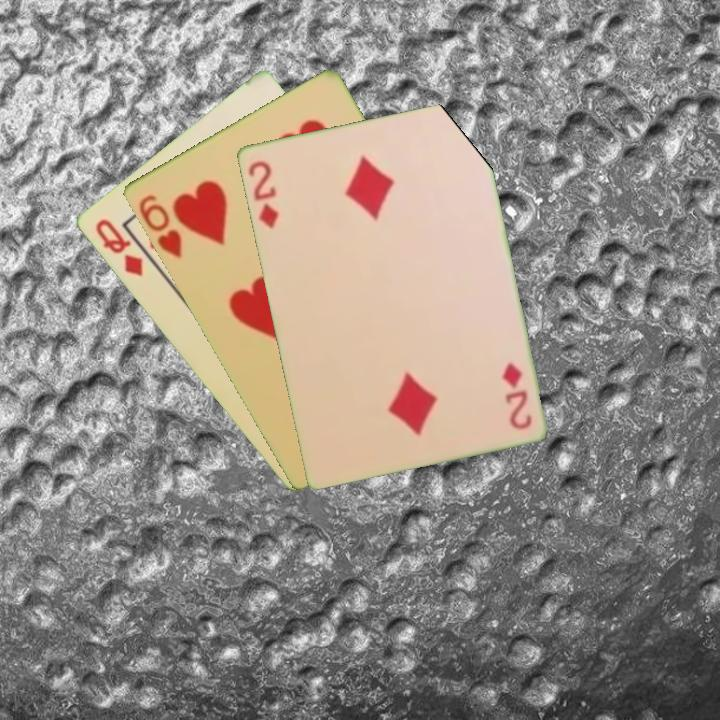2d: (244, 157, 281, 231), (497, 359, 534, 432)
6h: (134, 191, 185, 261)
Qd: (91, 215, 146, 280)
